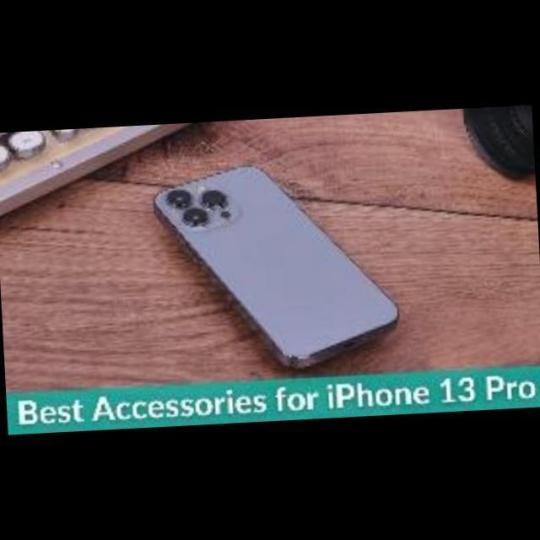phone: (147, 163, 404, 378)
